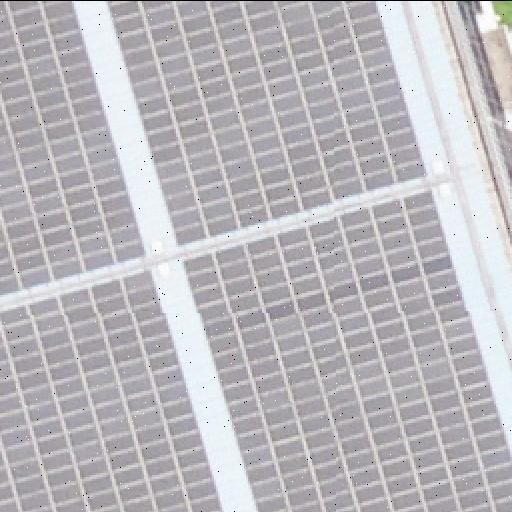solar-panel: (184, 185, 512, 511), (107, 1, 429, 247), (0, 264, 224, 512), (0, 0, 148, 296)
